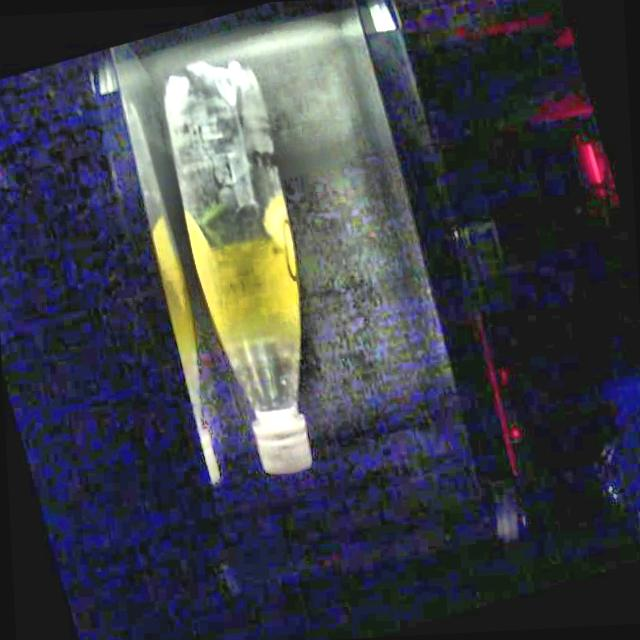plastic bottle: (164, 60, 310, 473)
